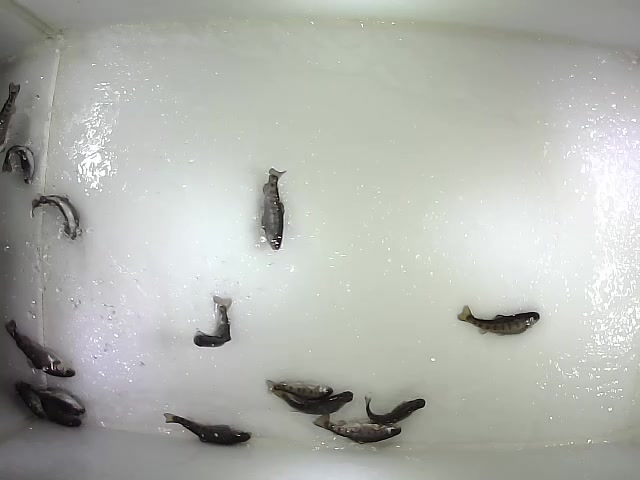fish: (4, 318, 77, 379), (163, 411, 254, 447), (312, 412, 403, 445), (456, 304, 541, 337), (30, 192, 81, 242), (259, 167, 288, 252), (192, 294, 235, 350), (271, 388, 356, 416), (364, 394, 427, 426), (264, 377, 334, 401), (1, 144, 36, 186)
